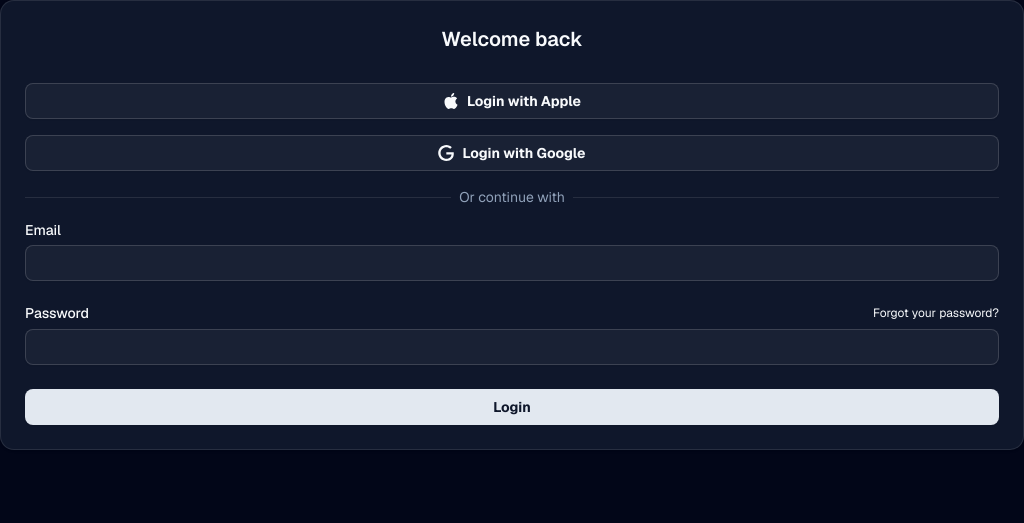
Test: LoginForm › validates email format
Type "invalid-email" into the field labelled "Email" at x=512, y=263, box [25,245,999,281]
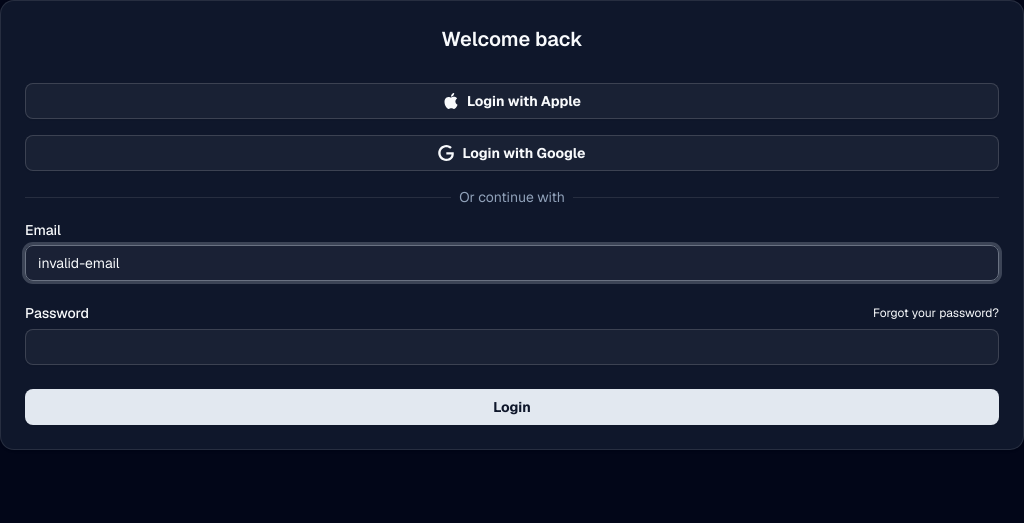
Click the button "Login" at x=512, y=407, box [25,389,999,425]
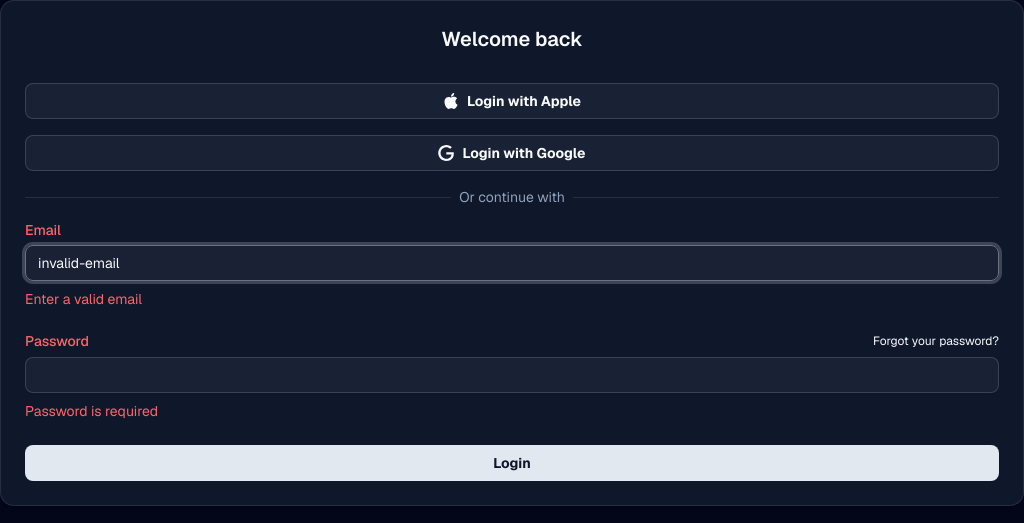
Now the text "Enter a valid email" is shown, box [25,290,142,308]
